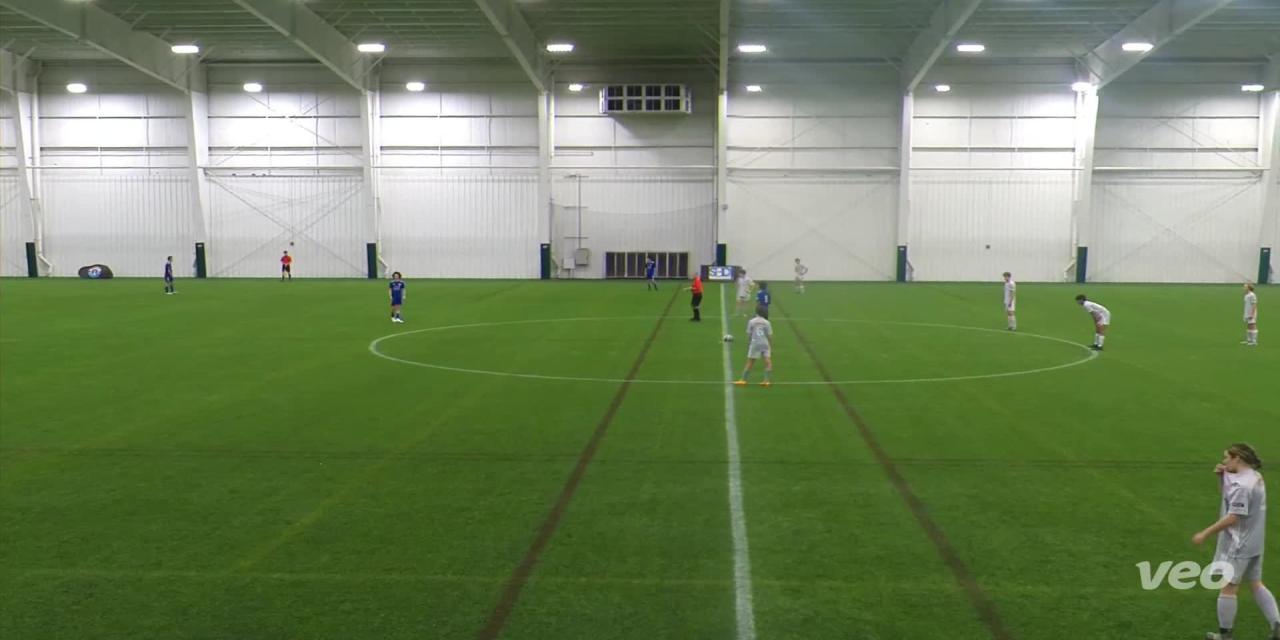sports ball: (720, 331, 742, 350)
